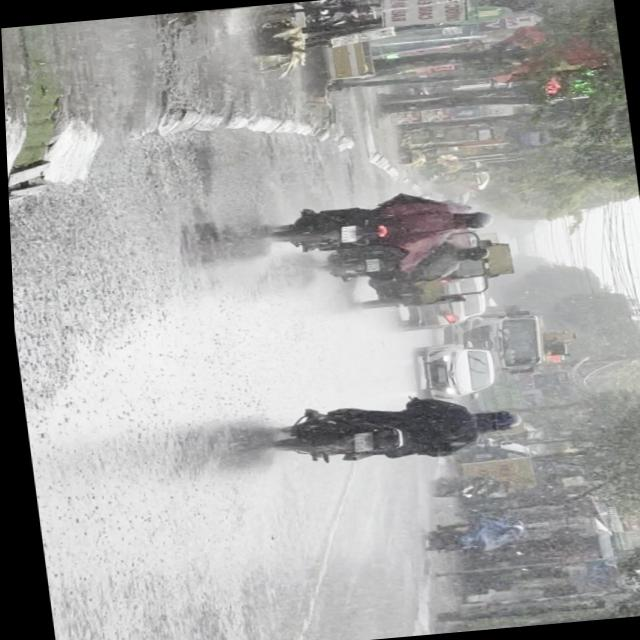helmet: (474, 408, 520, 433), (454, 207, 495, 230)
licenseplate: (256, 386, 527, 474), (267, 186, 498, 259)
nohelmet: (350, 432, 370, 452), (337, 224, 355, 241)
